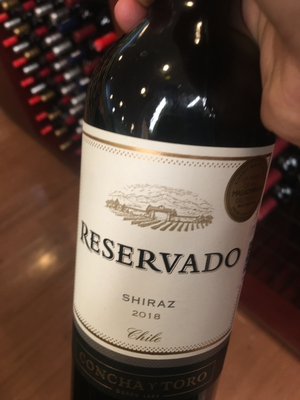reservado shiraz: (69, 24, 270, 400)
